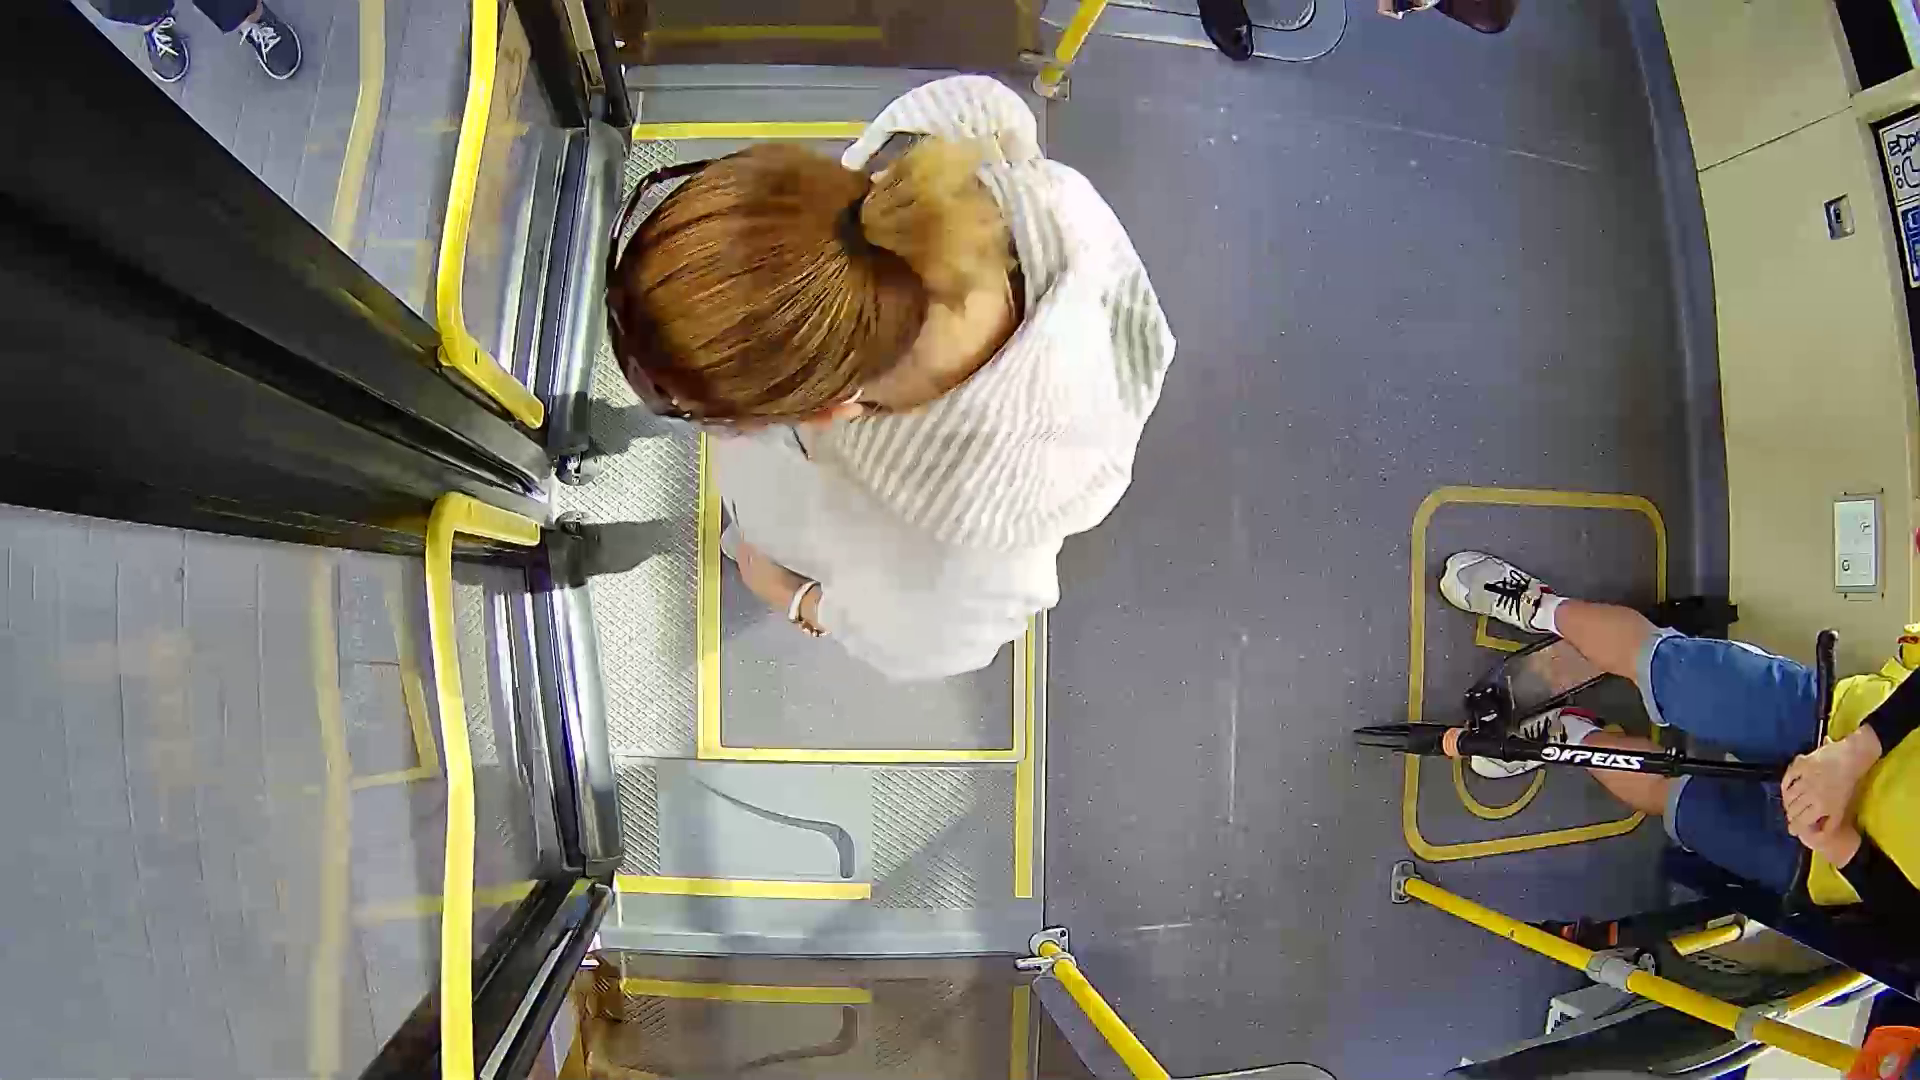person: (486, 58, 1229, 700)
